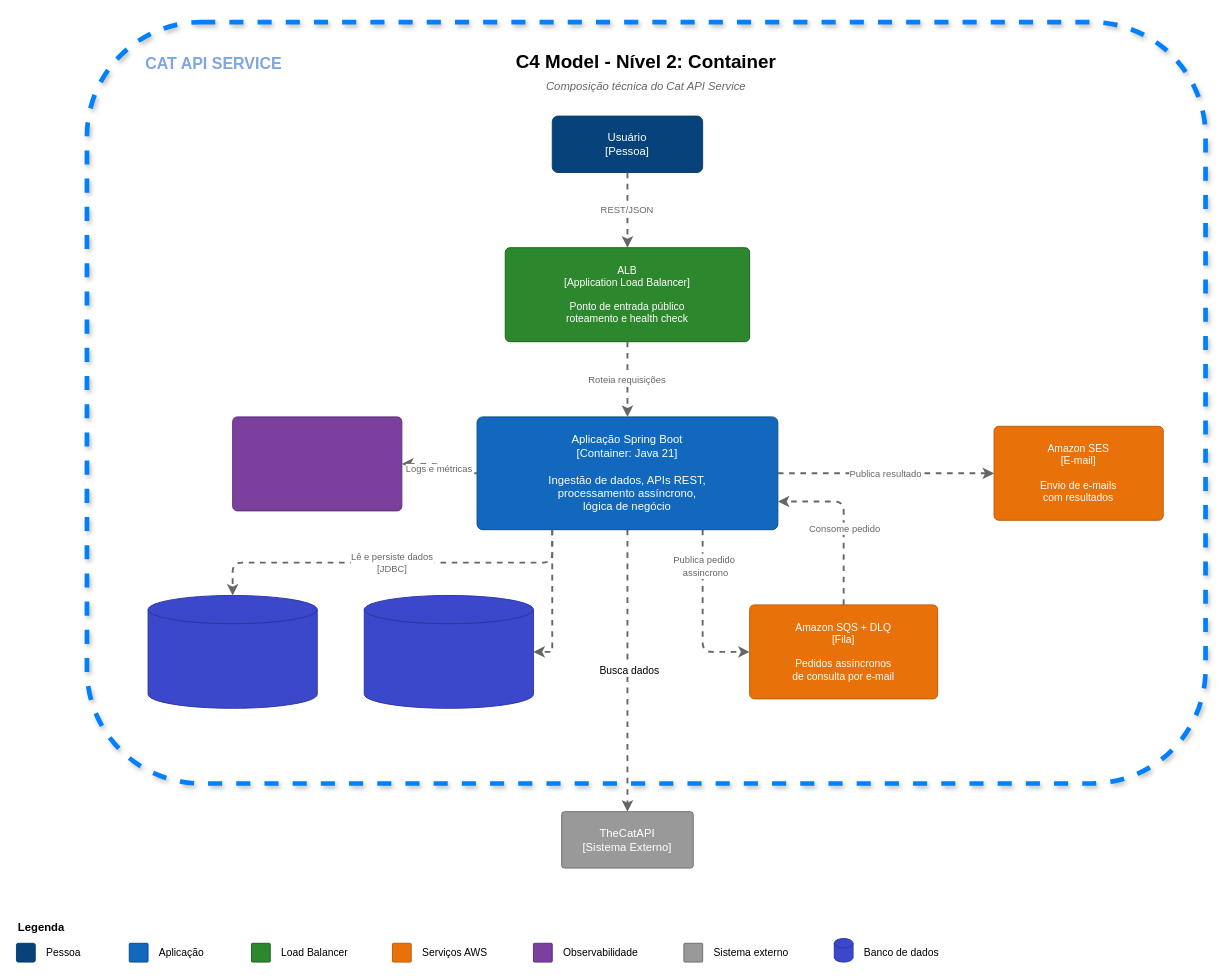
Some shapes in this 1230 by 979 pixel diagram are drawn without their labels. The centre of each missing label's shape, as x and y in pixels:
CloudWatch [Observabilidade] Logs, métricas, dashboards, alarmes: point 317,463
DynamoDB [Banco de Dados] Controle de processamento de mensagens: point 448,651
PostgreSQL 16 [Banco de Dados] Raças, imagens, dados de ingestão: point 232,651
